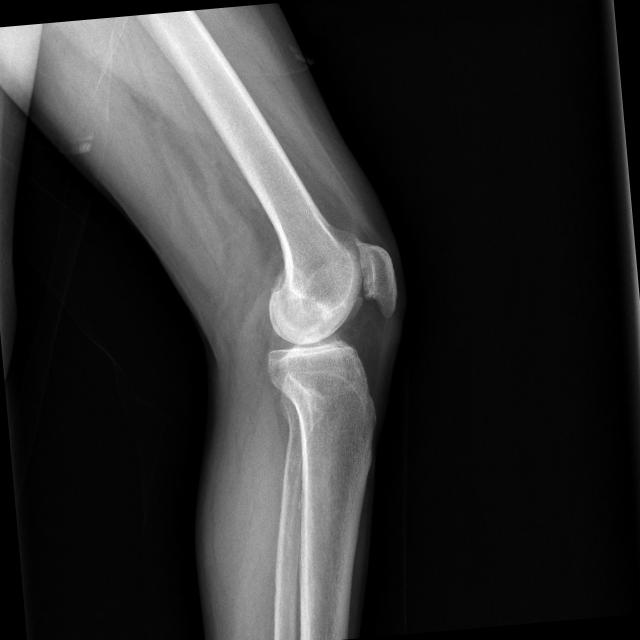Knee: (255, 233, 408, 405)
